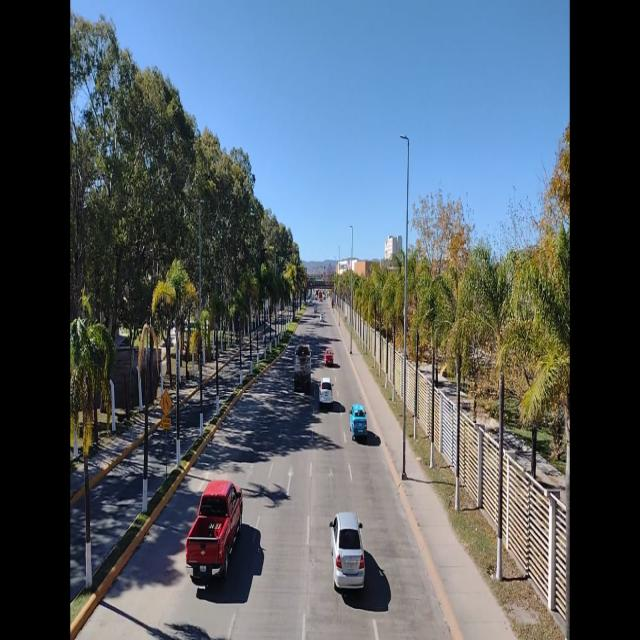Auto: (188, 476, 243, 589), (331, 511, 366, 604), (350, 403, 368, 447), (317, 374, 333, 408), (325, 341, 334, 370)
